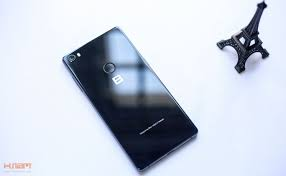bphone: (53, 25, 204, 172)
